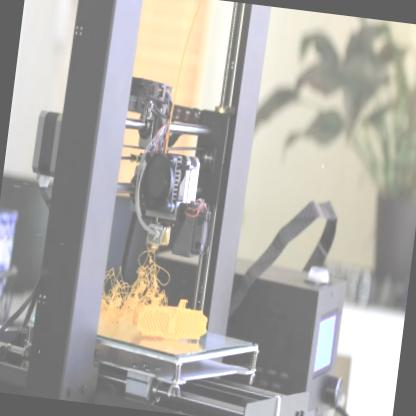fail: (104, 254, 173, 309)
